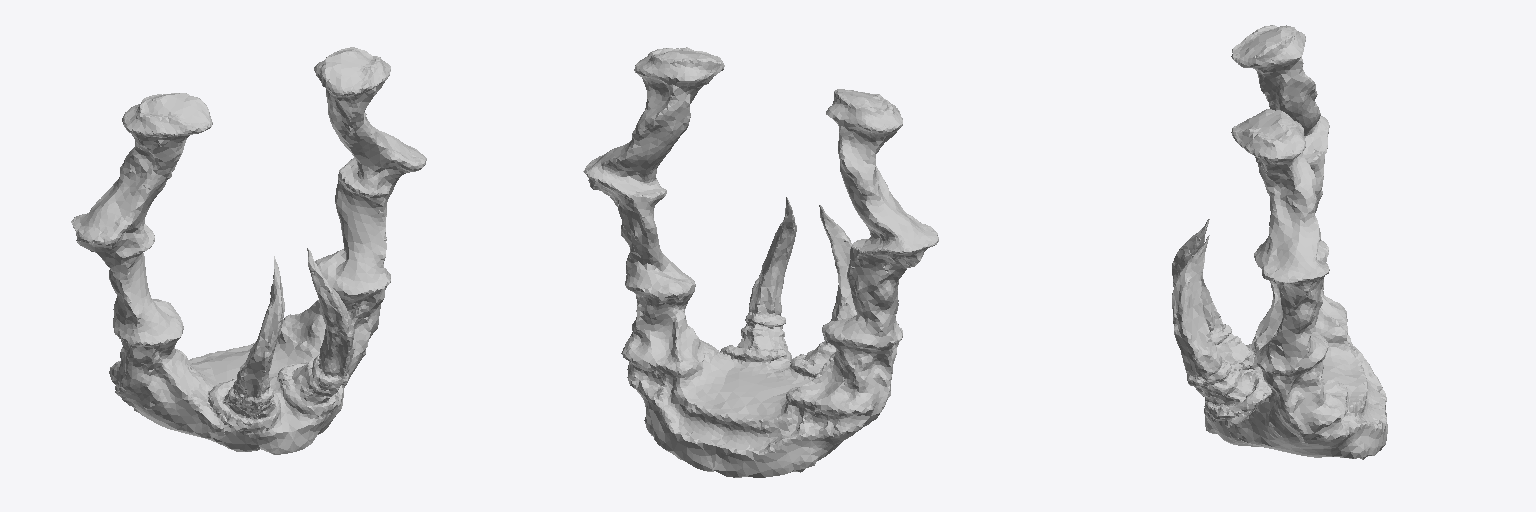
Rendered from portal.obj.
3 views of the same model, side by side, from view 1: azimuth 30°, elevation 25°; view 2: azimuth 150°, elevation 25°; view 3: azimuth 270°, elevation 25° (orthographic).
Parts seen in each view (by area): view 1: mesh01; view 2: mesh01; view 3: mesh01.
Boxes of the visible parts, x1=… form: mesh01: x1=71, y1=47, x2=426, y2=454; mesh01: x1=583, y1=47, x2=938, y2=477; mesh01: x1=1172, y1=25, x2=1387, y2=459.
Size of the model in its own units: 181 by 184 by 99.46.